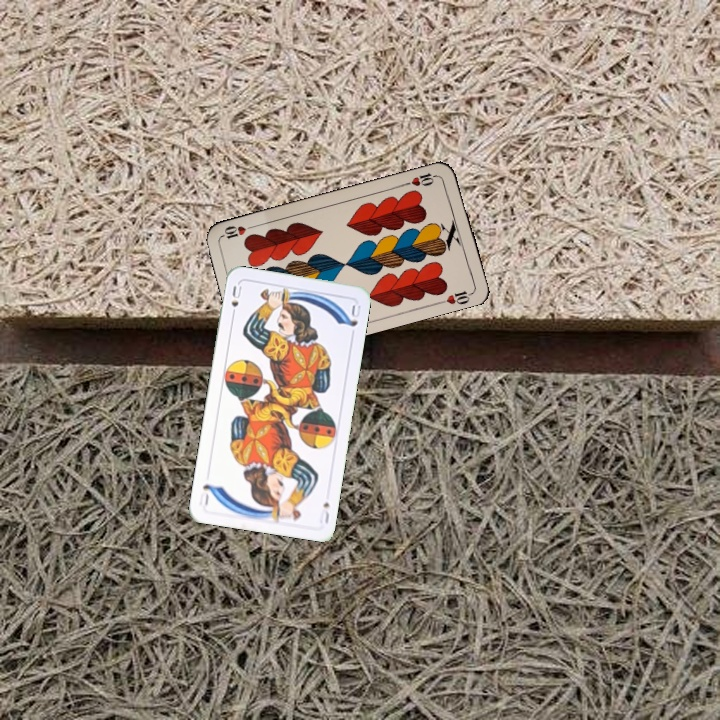H10: (401, 169, 441, 189)
SU: (227, 281, 244, 321), (315, 498, 332, 526)
